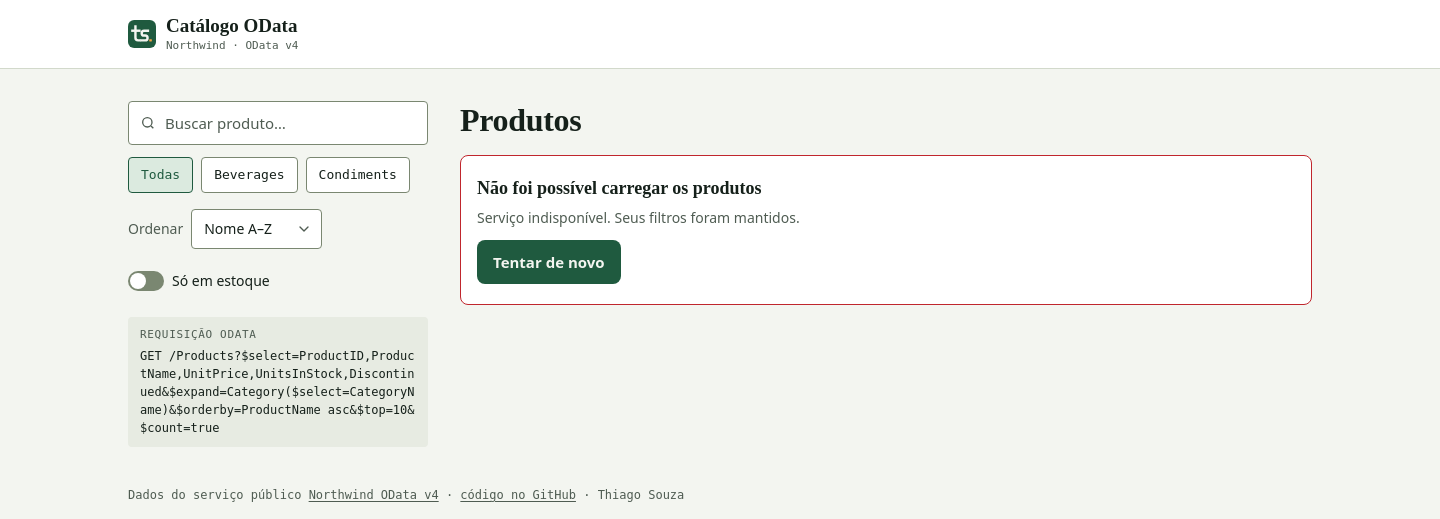
product list › shows the error and retries
expect the message shows "Serviço indisponível.": met, box top-left (477, 208), bottom-right (611, 227)
Click the button "Tentar de novo". click: (549, 262)
box: top-left (477, 240), bottom-right (621, 284)
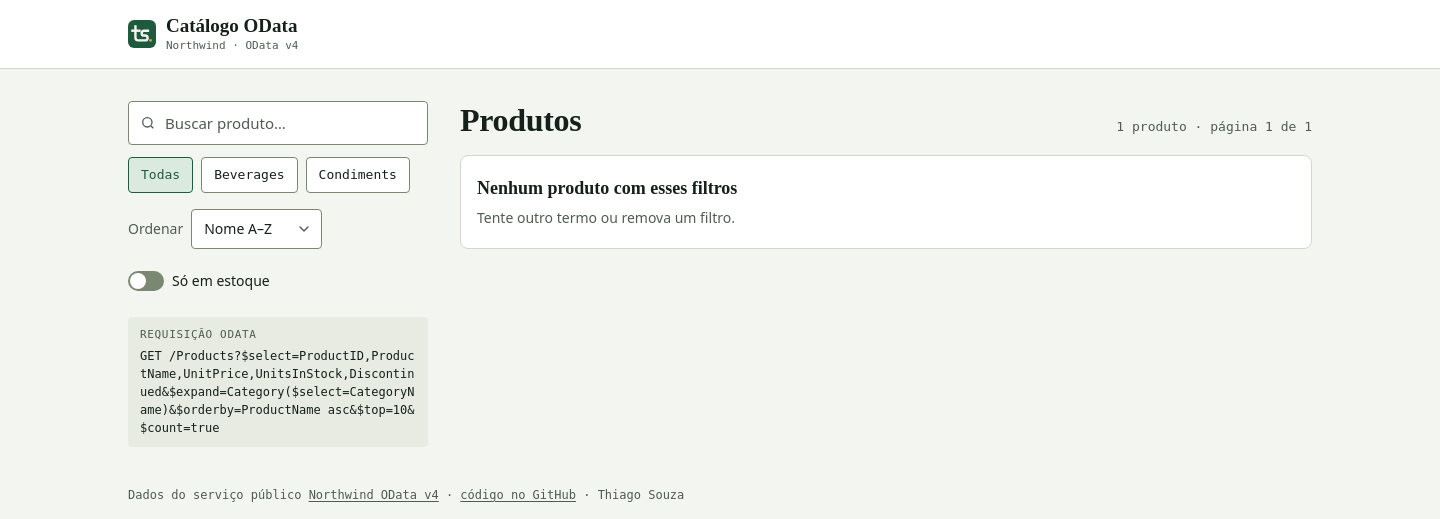
expect the heading "Nenhum produto com esses filtros" is shown: met, box top-left (477, 176), bottom-right (737, 200)
